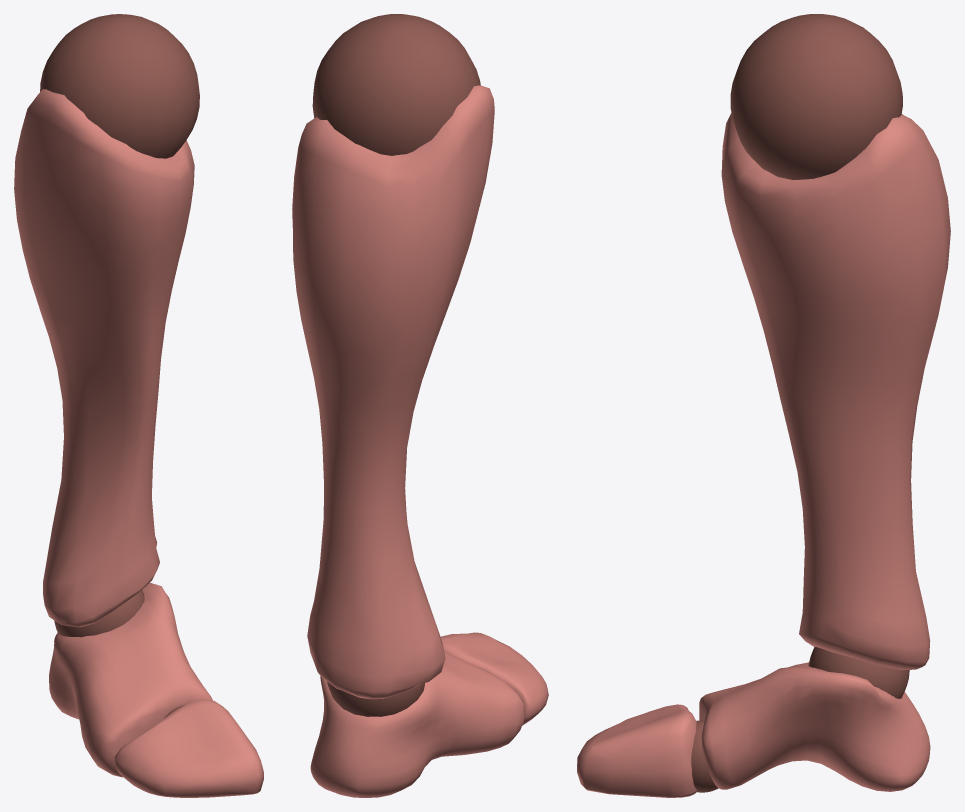
The model's file is xbotfootright.fbx.
The picture shows the model from 3 angles, left to right: view 1: azimuth 30°, elevation 25°; view 2: azimuth 150°, elevation 25°; view 3: azimuth 270°, elevation 25°; orthographic projection. The views are drawn at different scales.
Parts seen in each view (by area): view 1: Beta_Surface, Beta_Joints; view 2: Beta_Surface, Beta_Joints; view 3: Beta_Surface, Beta_Joints.
Boxes of the visible parts, left/top/right/bottom form: Beta_Surface: left=14, top=89, right=263, bottom=797; Beta_Joints: left=40, top=14, right=199, bottom=718; Beta_Surface: left=292, top=85, right=548, bottom=797; Beta_Joints: left=312, top=14, right=480, bottom=716; Beta_Surface: left=577, top=113, right=950, bottom=797; Beta_Joints: left=691, top=14, right=909, bottom=792.
Size of the model in its own units: 13.63 by 59.37 by 26.42.
